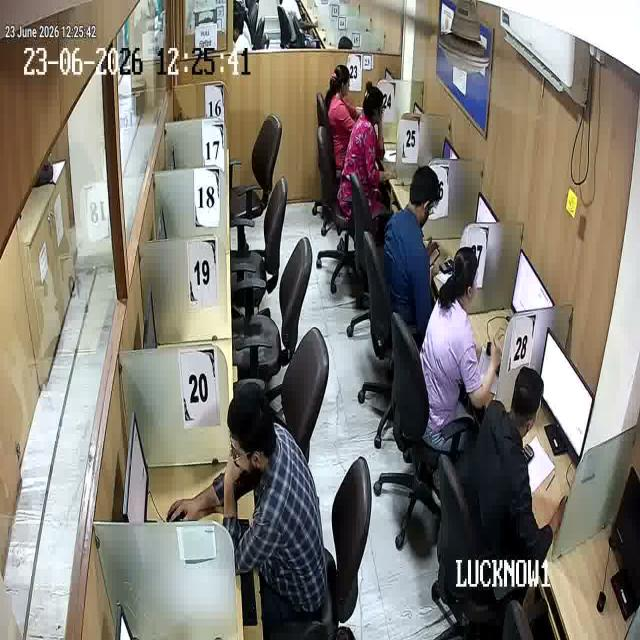phone: (426, 240, 446, 277)
